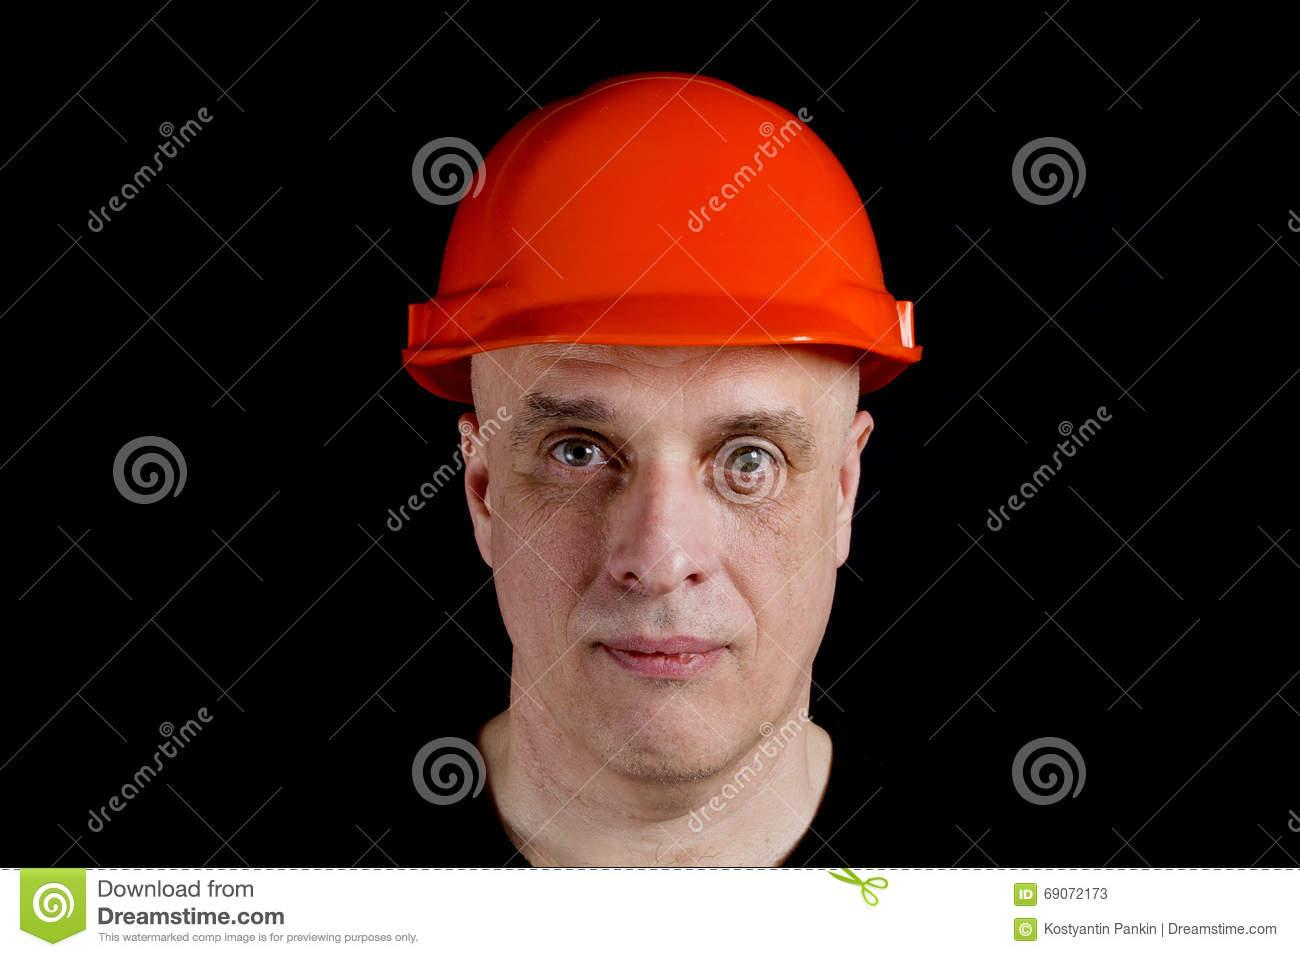helmet: (405, 72, 911, 384)
